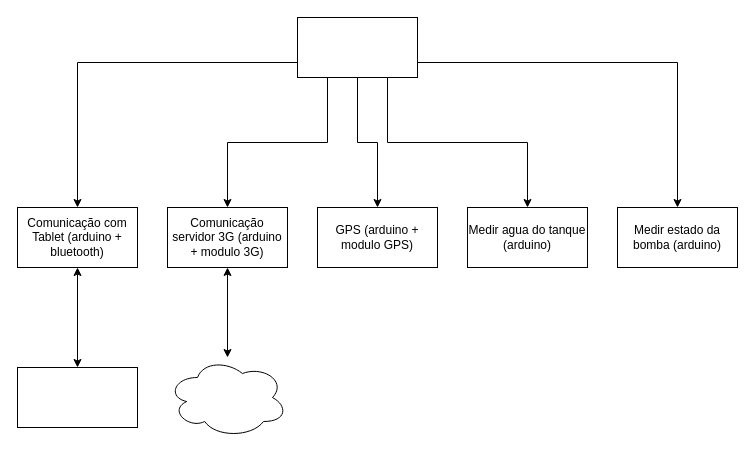
This 755x455 diagram has some shape labels left out. Each missing label, with the centre of its shape:
"circuito de controlo (raspberry pi)" belongs at point (357, 47).
"NET" belongs at point (227, 397).
"Tablet" belongs at point (77, 397).
